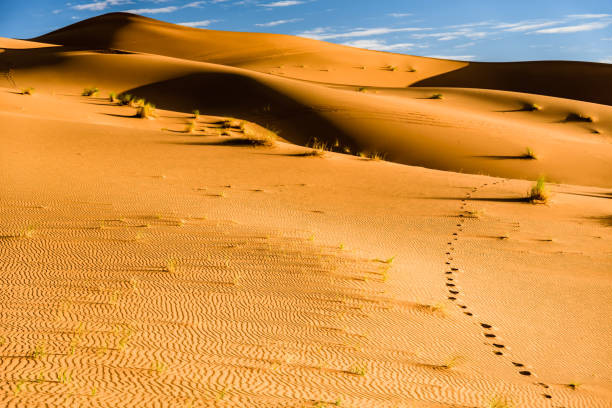animal_footprint: (444, 180, 504, 318)
